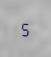five: (19, 19, 29, 37)
